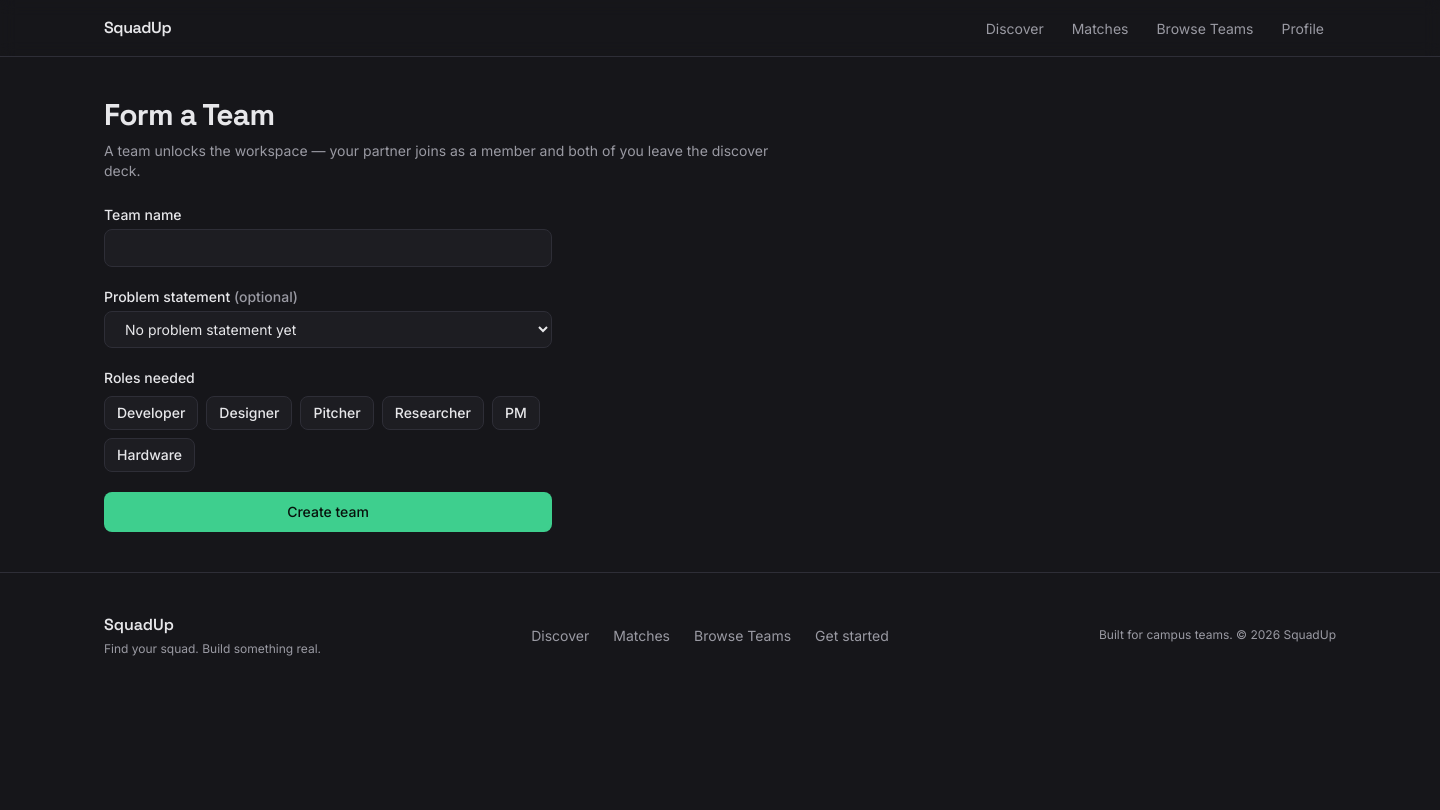
Test: Form team page › requires a team name
The image size is (1440, 810).
Click the button "Create team".
click(328, 512)  # box [104, 492, 552, 532]
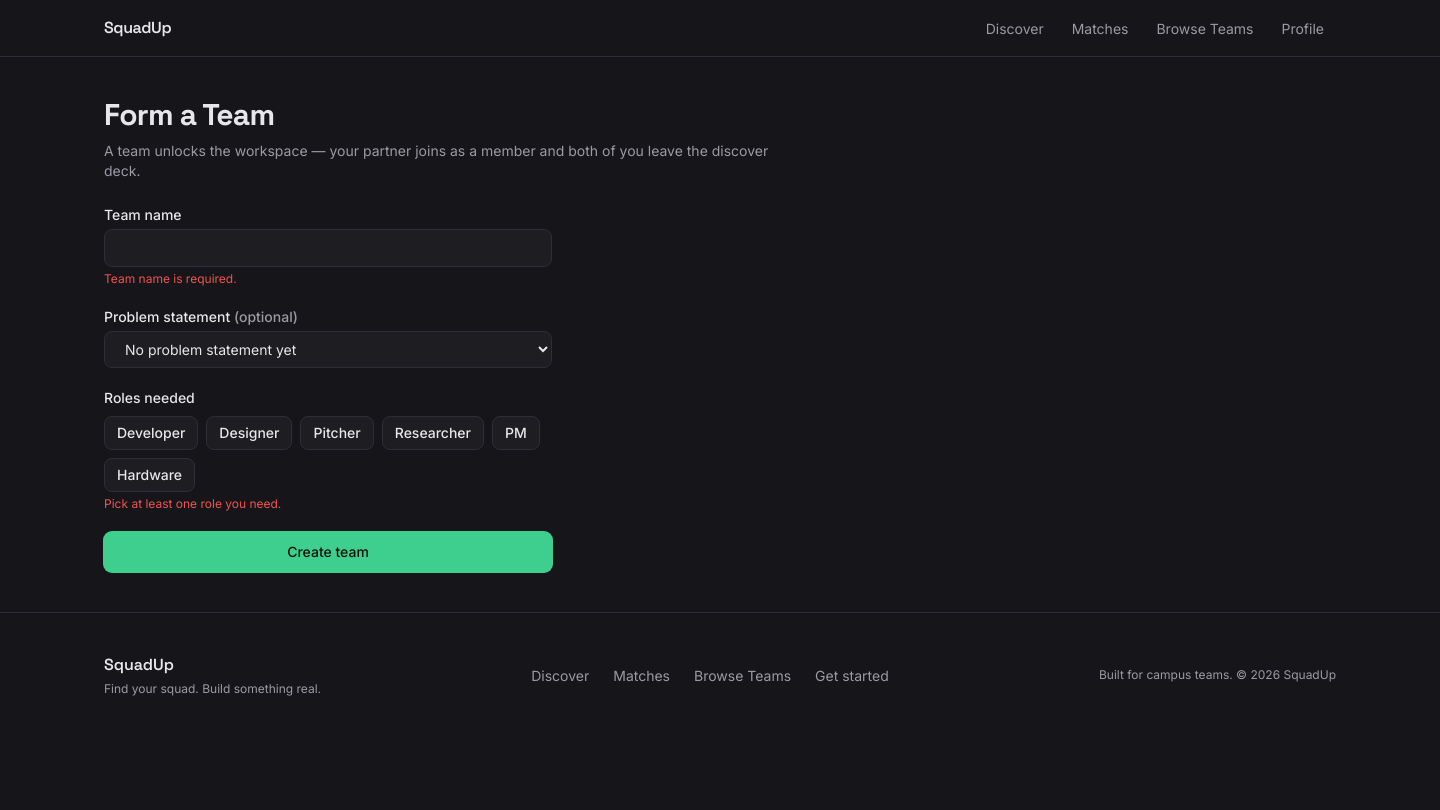
Expected: the text "Team name is required." is shown, [104, 271, 237, 286]
